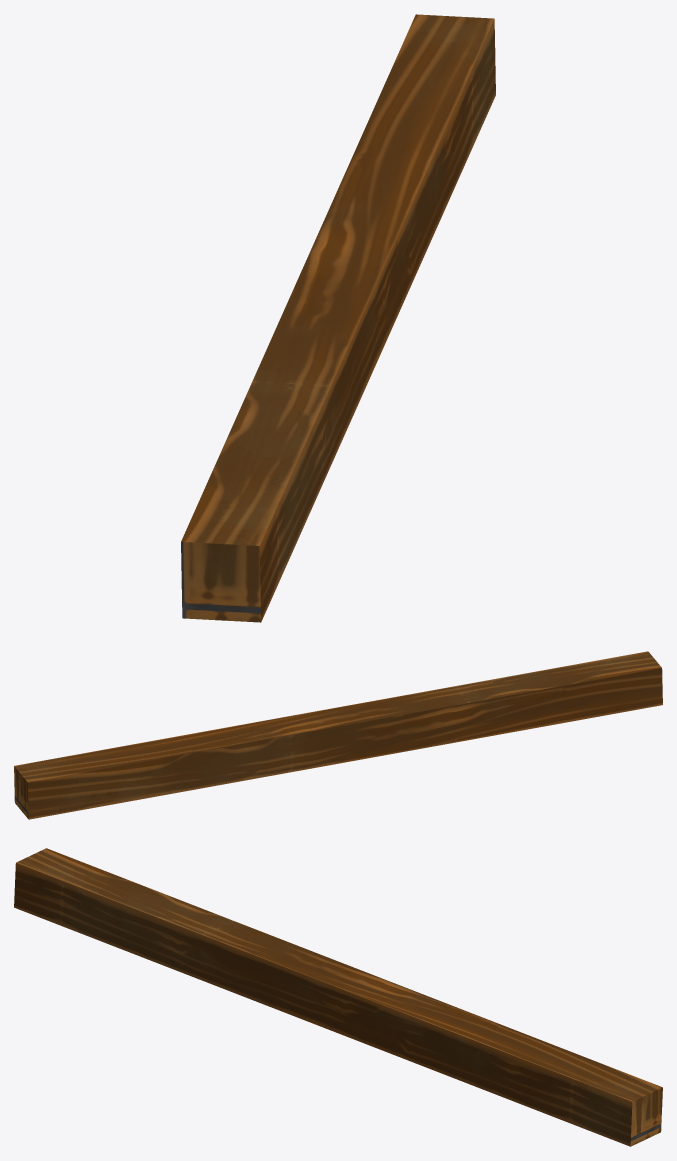
The picture shows the model from 3 angles, top to bottom: view 1: azimuth 30°, elevation 25°; view 2: azimuth 150°, elevation 25°; view 3: azimuth 270°, elevation 25°; orthographic projection. The views are drawn at different scales.
Parts seen in each view (by area): view 1: Cube.2069; view 2: Cube.2069; view 3: Cube.2069.
Boxes of the visible parts, x1,y1,x2,y2 form: Cube.2069: (181, 14, 495, 622); Cube.2069: (14, 651, 662, 819); Cube.2069: (14, 848, 662, 1146).
Bounding box in the file's own units: 485 × 64.05 × 568.
1 material, 1 textured.
